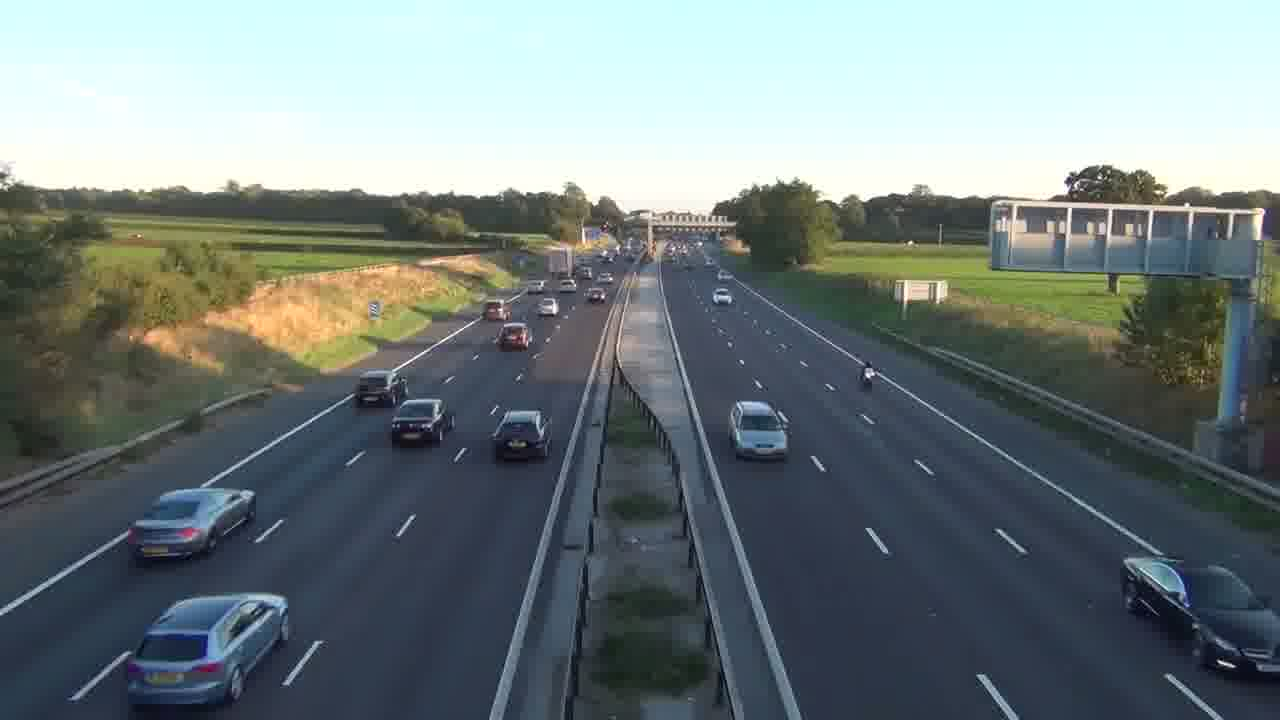car: (125, 592, 290, 710), (1120, 555, 1280, 676), (126, 487, 257, 566), (728, 400, 790, 461), (491, 409, 552, 461), (389, 398, 452, 447), (353, 369, 408, 408)
